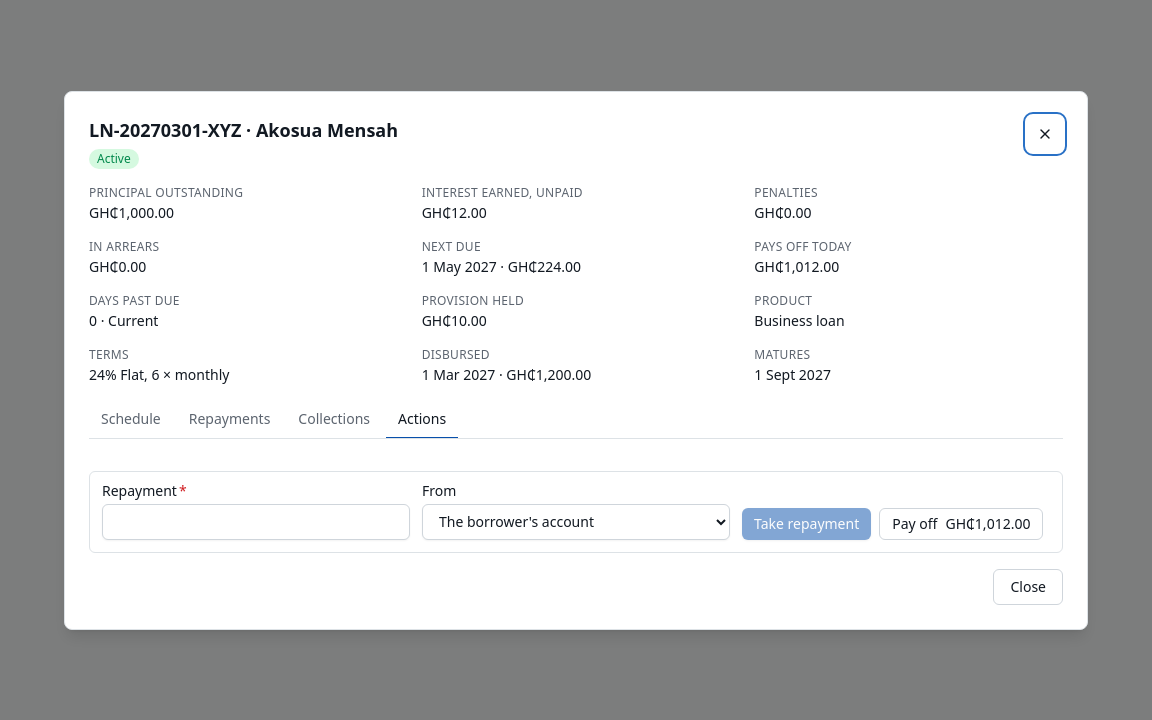
Test: LoanDialog › takes the payoff amount exactly as the server quoted it, with an idempotency key
Click the button "Pay off GH₵1,012.00" at (961, 524), box [879,508,1043,540]
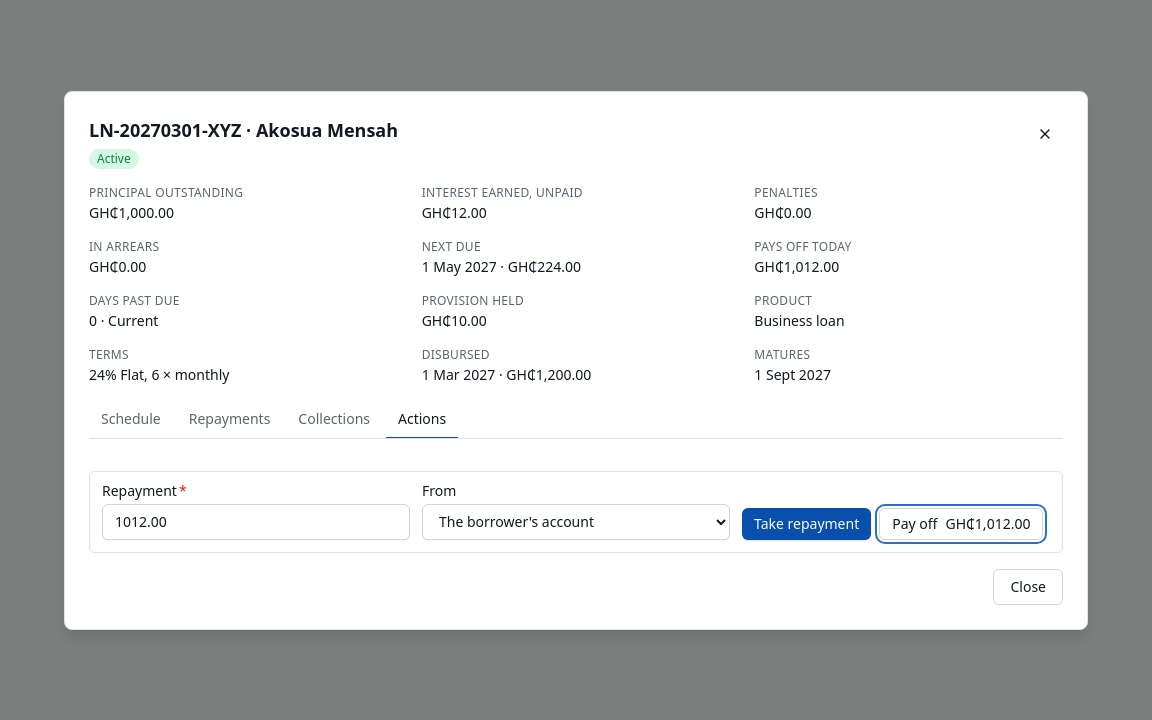
Click the button "Take repayment" at (807, 524), box [742,508,871,540]
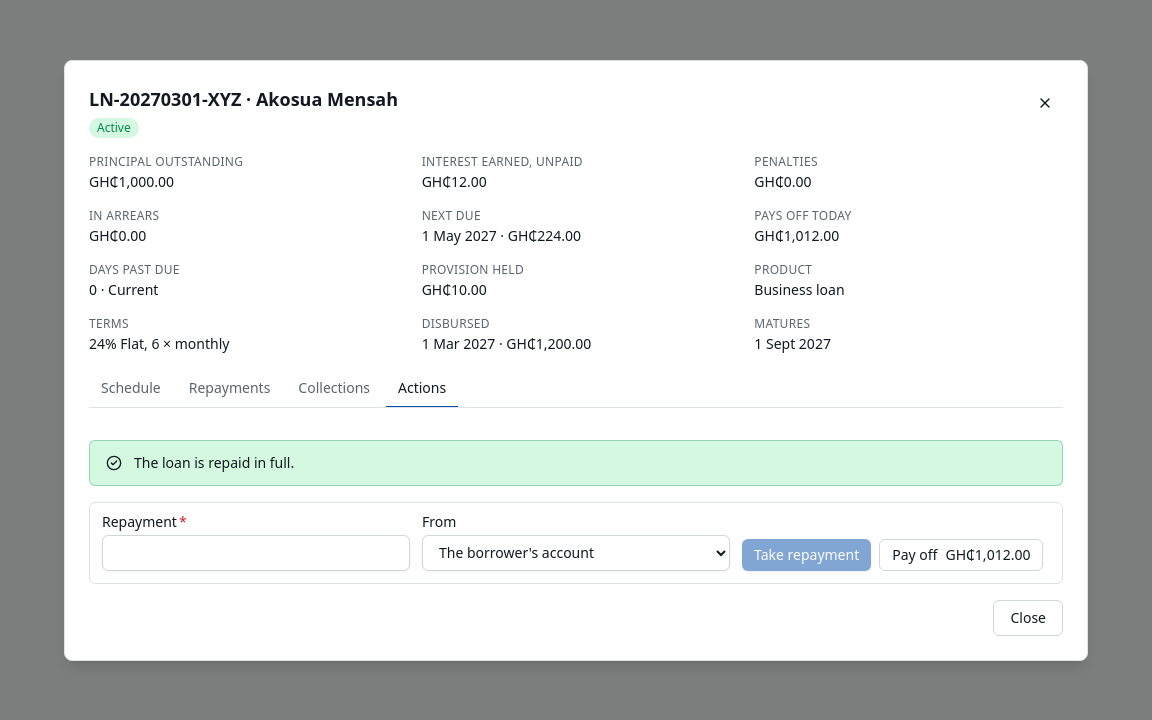
Expected: the text "The loan is repaid in full." is shown, [134,452,294,472]
